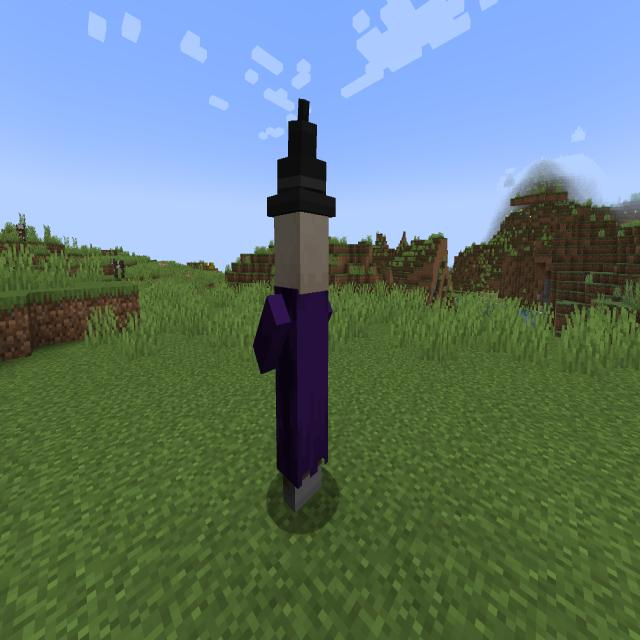Witch: (246, 86, 344, 526)
